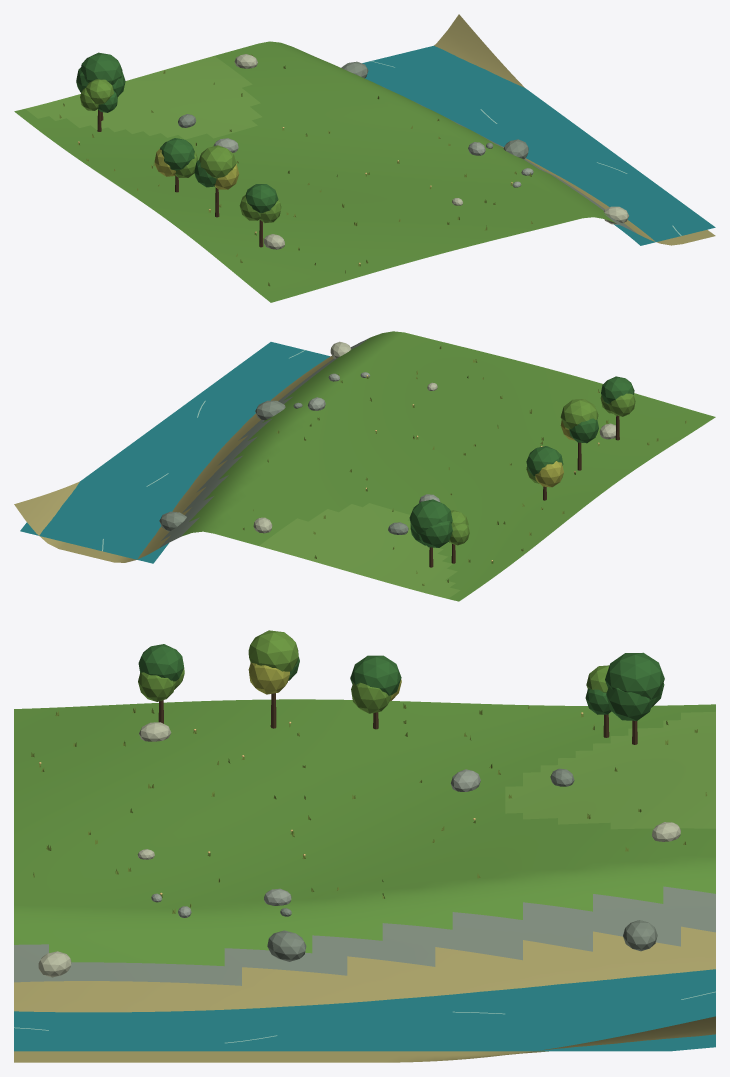
File: Chunk_X0_Y0_Z1.fbx
3 views of the same model, one above another, from view 1: azimuth 30°, elevation 25°; view 2: azimuth 150°, elevation 25°; view 3: azimuth 270°, elevation 25° (orthographic). The views are drawn at different scales.
Parts seen in each view (by area): view 1: Terrain.025, Water.004, Canopies.024, Rocks.025, GroundCover.025; view 2: Terrain.025, Water.004, Canopies.024, Rocks.025, GroundCover.025, Trunks.024; view 3: Terrain.025, Water.004, Canopies.024, Rocks.025, GroundCover.025, Trunks.024.
Part boxes in pixels (left/top/right/bottom): Terrain.025: left=14, top=14, right=715, bottom=302; Water.004: left=362, top=45, right=715, bottom=245; Canopies.024: left=76, top=52, right=281, bottom=222; Rocks.025: left=178, top=54, right=628, bottom=249; GroundCover.025: left=59, top=54, right=532, bottom=286; Terrain.025: left=14, top=331, right=715, bottom=601; Water.004: left=20, top=342, right=329, bottom=563; Canopies.024: left=409, top=376, right=635, bottom=547; Rocks.025: left=159, top=341, right=615, bottom=534; GroundCover.025: left=242, top=346, right=686, bottom=585; Trunks.024: left=429, top=415, right=619, bottom=567; Terrain.025: left=14, top=699, right=715, bottom=1062; Water.004: left=14, top=969, right=715, bottom=1051; Canopies.024: left=138, top=630, right=664, bottom=720; Rocks.025: left=38, top=722, right=680, bottom=977; GroundCover.025: left=31, top=703, right=707, bottom=913; Trunks.024: left=158, top=693, right=637, bottom=744.
Bounding box in the file's own units: 100 × 25.29 × 100.
